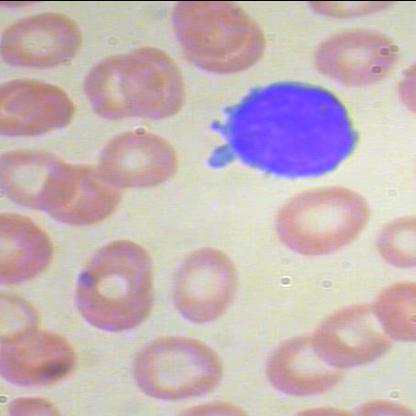RBC: (270, 179, 372, 260), (128, 334, 228, 406), (70, 236, 156, 318), (160, 244, 238, 326), (311, 295, 397, 369), (78, 52, 161, 124), (92, 127, 180, 194), (264, 331, 348, 401), (0, 6, 84, 76), (0, 144, 80, 216), (0, 323, 79, 392), (309, 26, 399, 84), (0, 73, 77, 140), (164, 1, 248, 60), (0, 210, 58, 286), (365, 276, 415, 340)
WBC: (196, 67, 367, 190)
